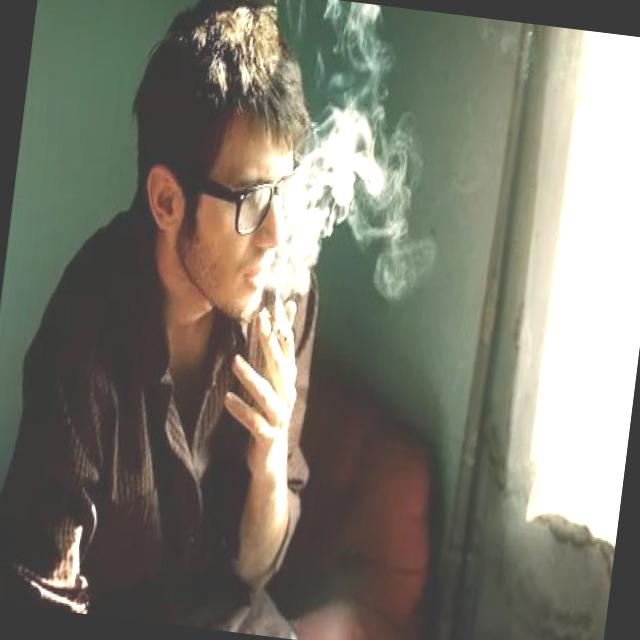cigarette: (255, 306, 293, 350)
